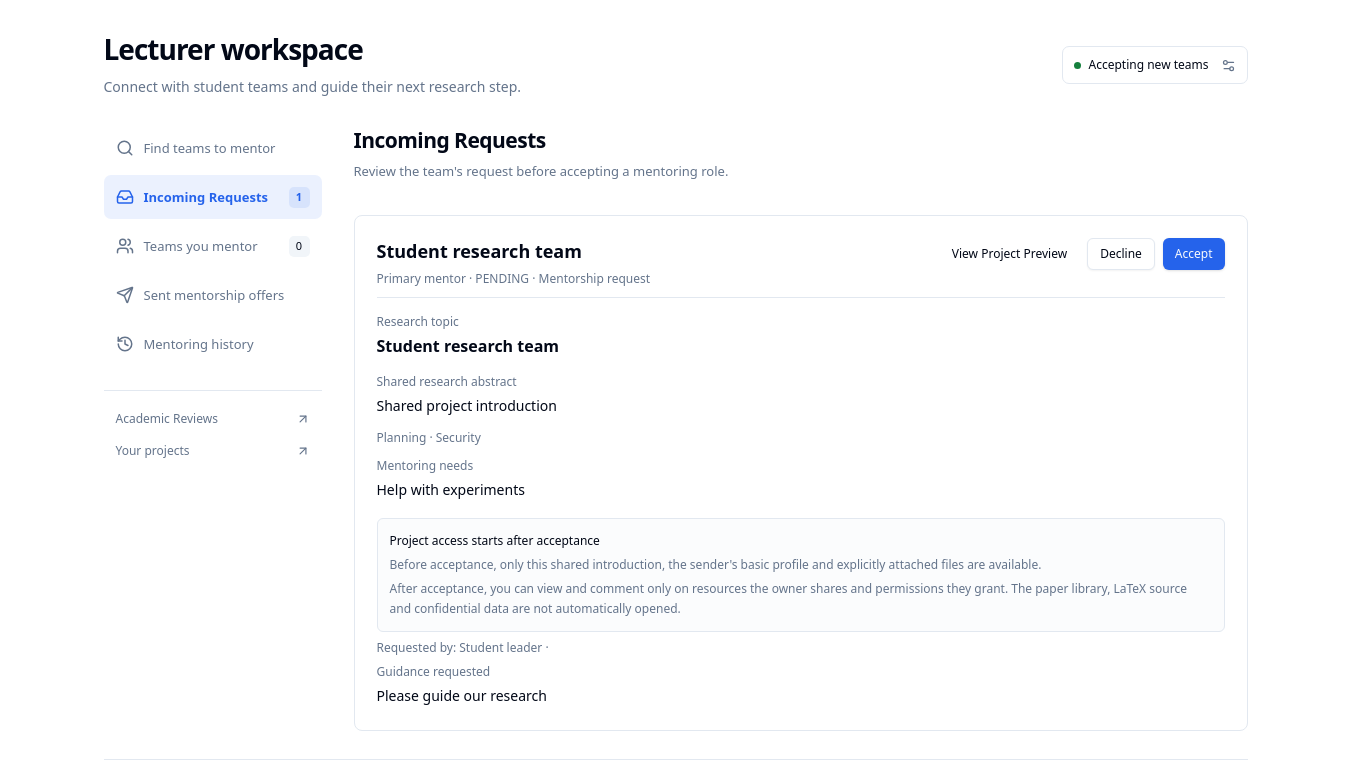
Test: shows the approved abstract before opening any dialog, and repeats the topic brief before consent
The image size is (1366, 768).
Click the button "Accept".
click(1194, 254)  # box [1163,238,1224,270]
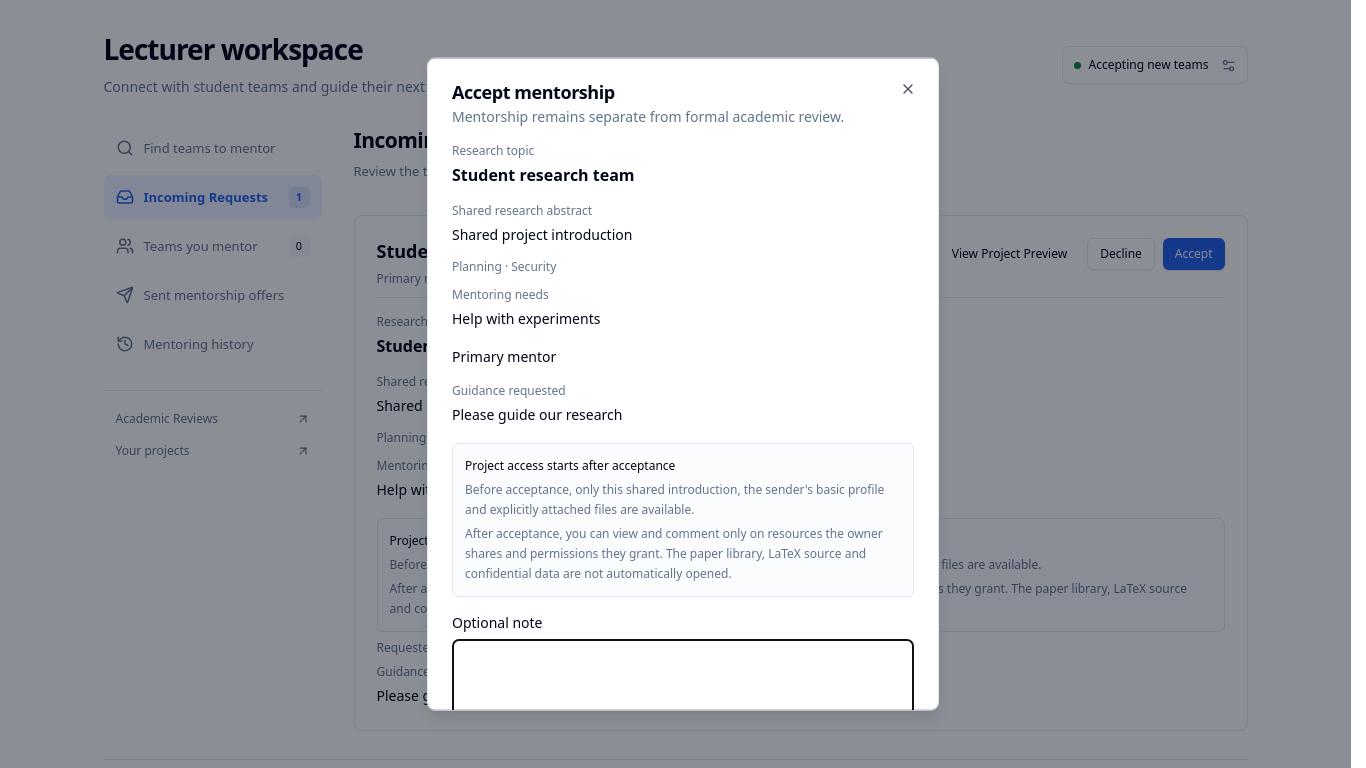
Now the dialog shows "Shared project introduction", box [452,225,632,244]
Now the dialog shows "Please guide our research", box [452,405,622,424]
Now the dialog shows "Primary mentor", box [452,347,556,366]
